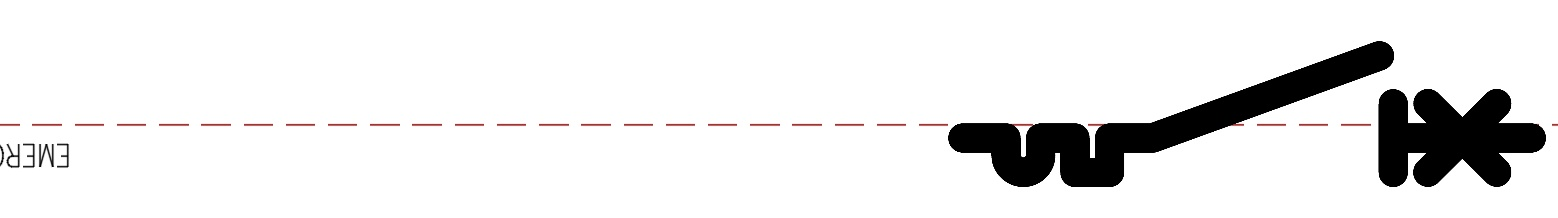interruptor_termomagnetico: (948, 41, 1546, 187)
